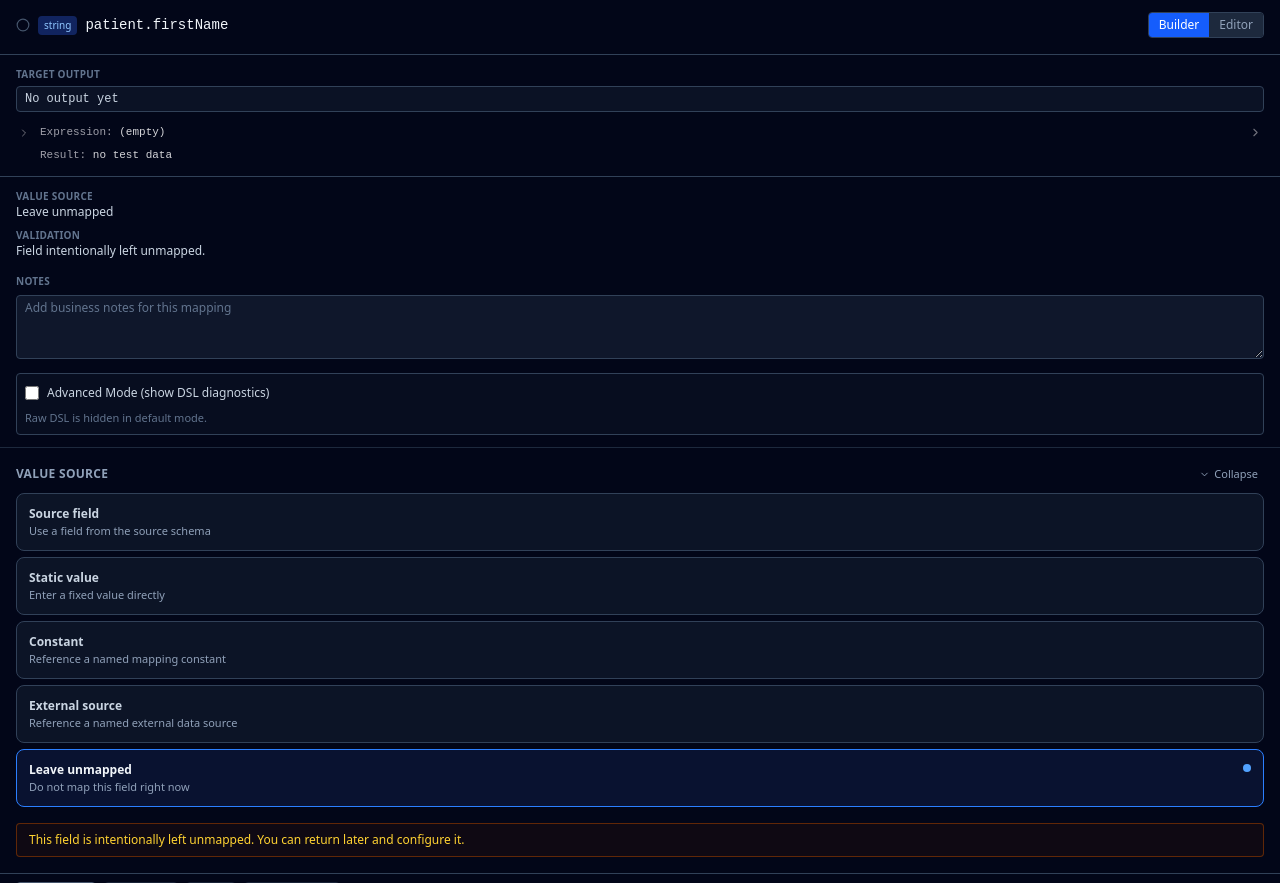
Test case: ScalarFieldBuilder › shows Step 2 logic lane after Step 1 static value is provided
Click the button with test id "scalar-entry-mode-static" at [64, 577], box [16,557,1264,615]
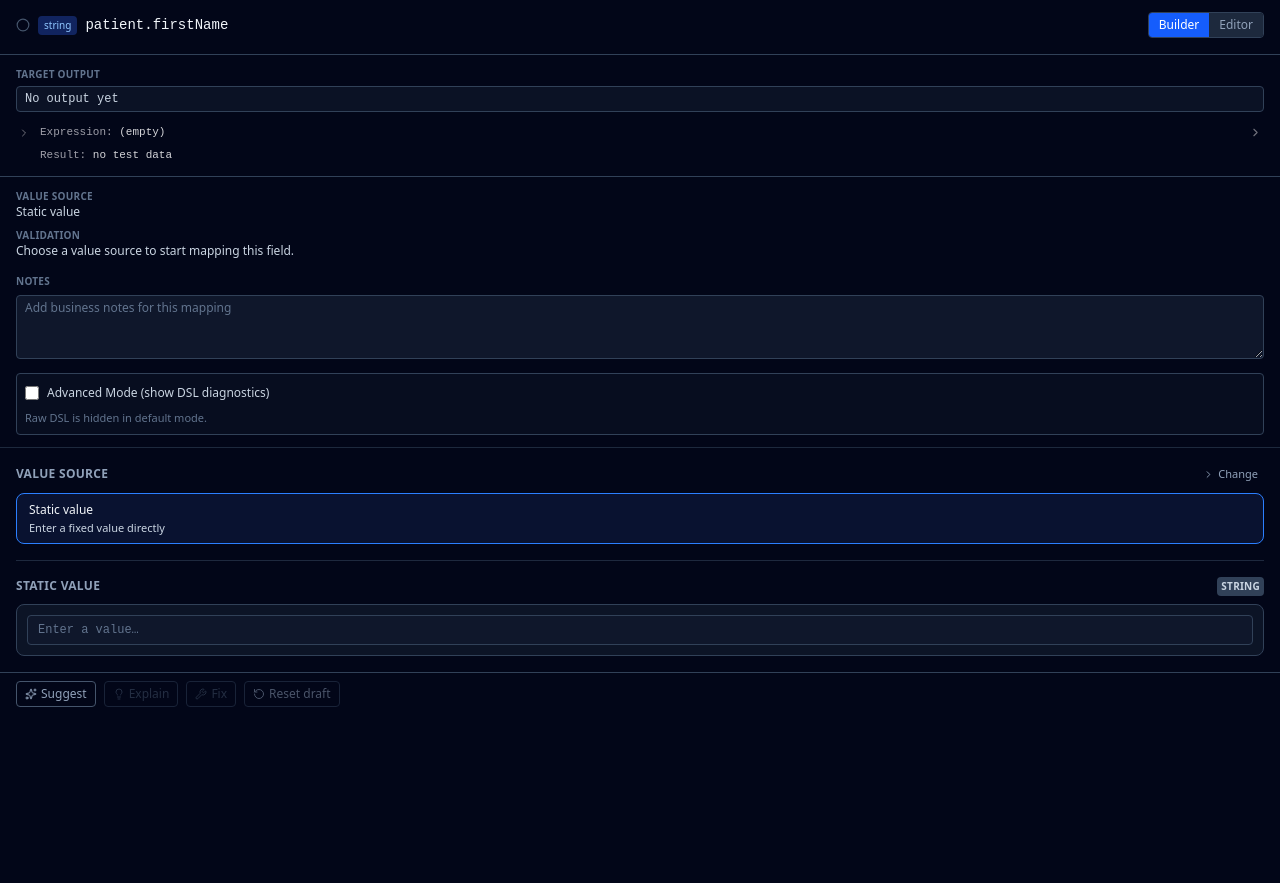
Type "hello" into the field with test id "static-value-text-input" at [640, 630], box [27,615,1253,645]
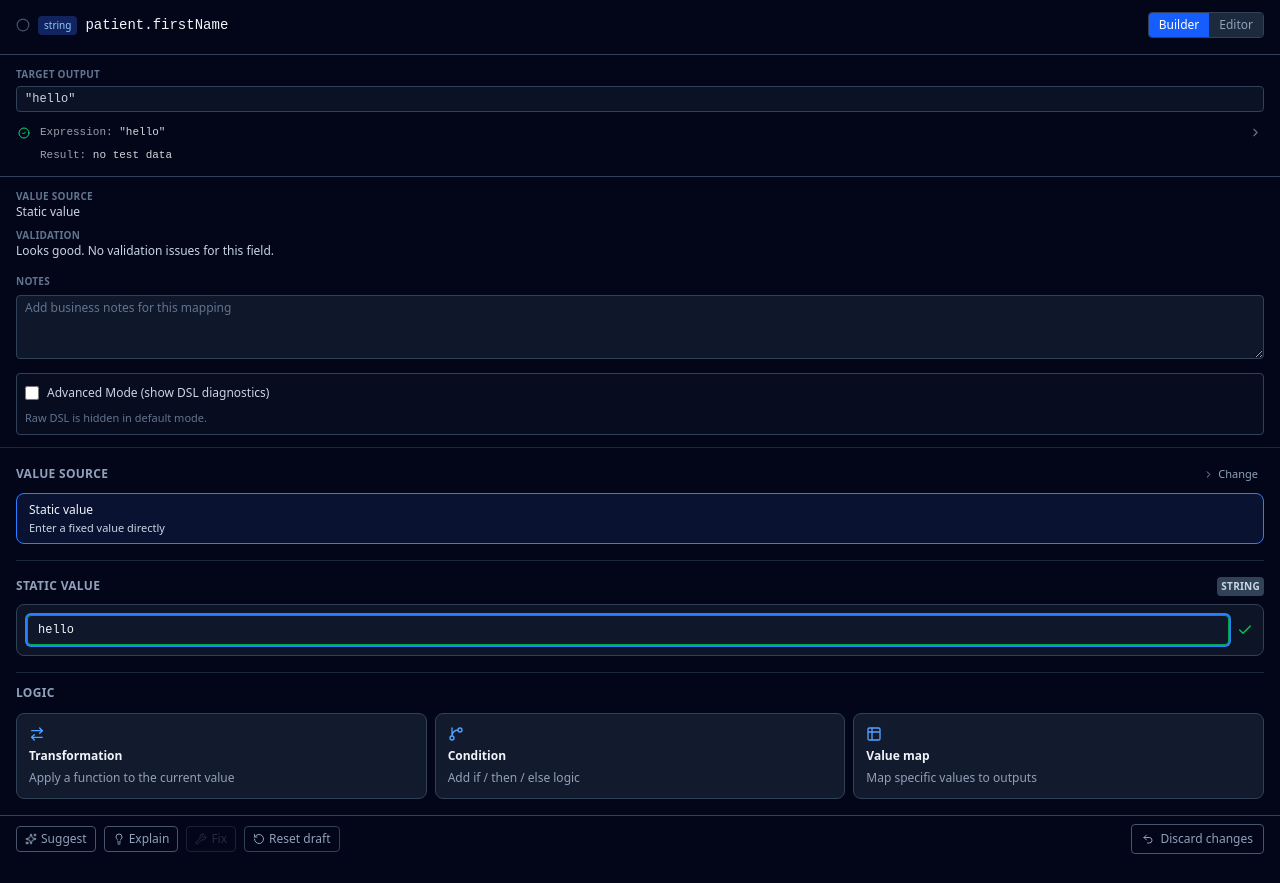
Check: the element with test id "scalar-logic-lane" is shown, box [16,672,1264,799]
Check: the text with test id "scalar-logic-heading" reads "Logic", box [16,684,55,701]
Check: the button with test id "add-logic-option-transform" is shown, box [16,713,427,799]
